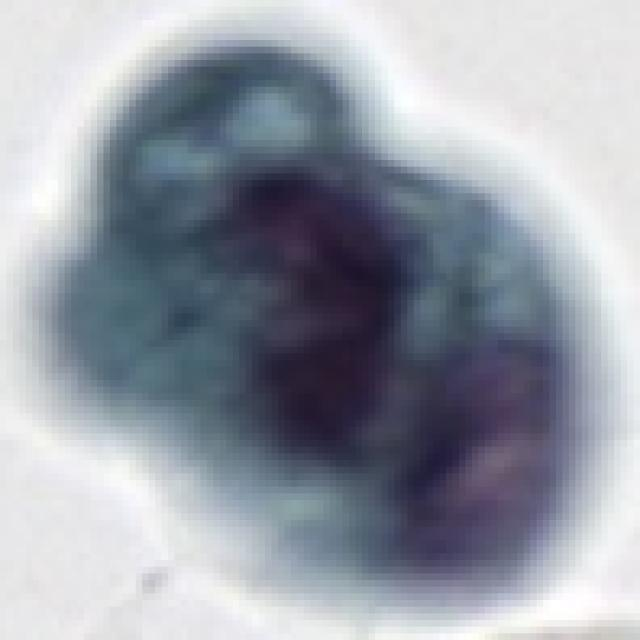nucleus: (338, 303, 627, 628), (222, 160, 453, 471)
